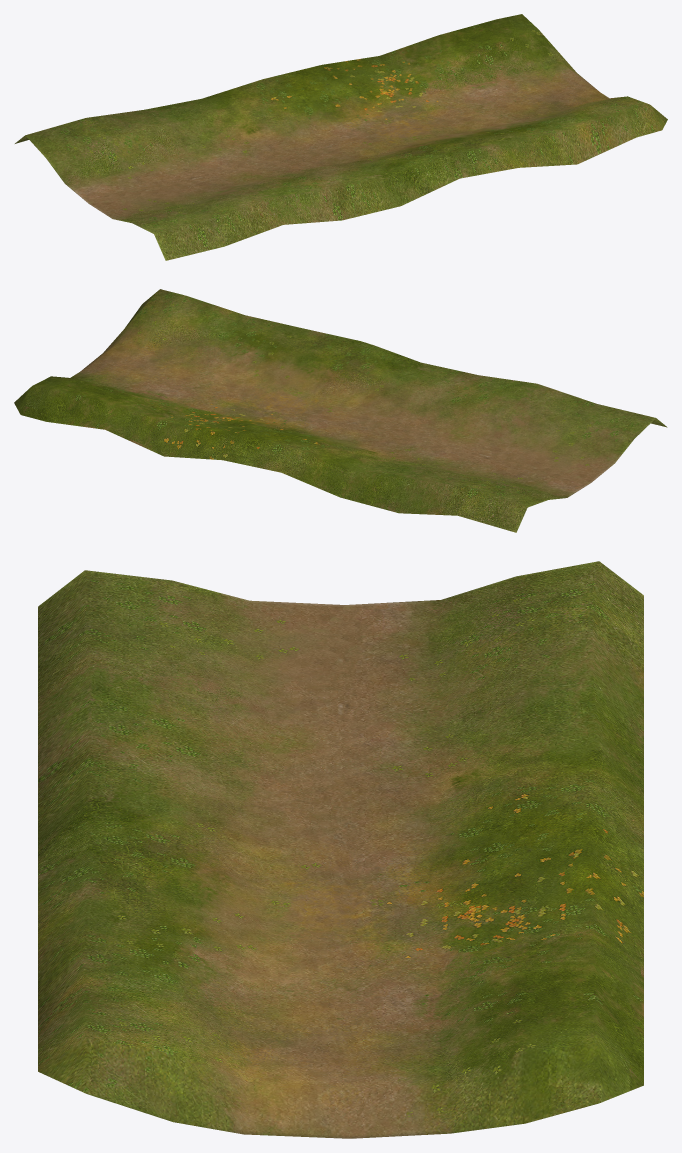
Rendered from ground_mobile.FBX.
3 views of the same model, one above another, from view 1: azimuth 30°, elevation 25°; view 2: azimuth 150°, elevation 25°; view 3: azimuth 270°, elevation 25° (orthographic). The views are drawn at different scales.
Parts seen in each view (by area): view 1: Plane001; view 2: Plane001; view 3: Plane001.
Part boxes in pixels (box(x1,y1,x2,y2)): Plane001: box(15, 14, 667, 260); Plane001: box(14, 289, 667, 532); Plane001: box(38, 561, 643, 1138).
Bounding box in the file's own units: 149 × 11.73 × 75.92.
